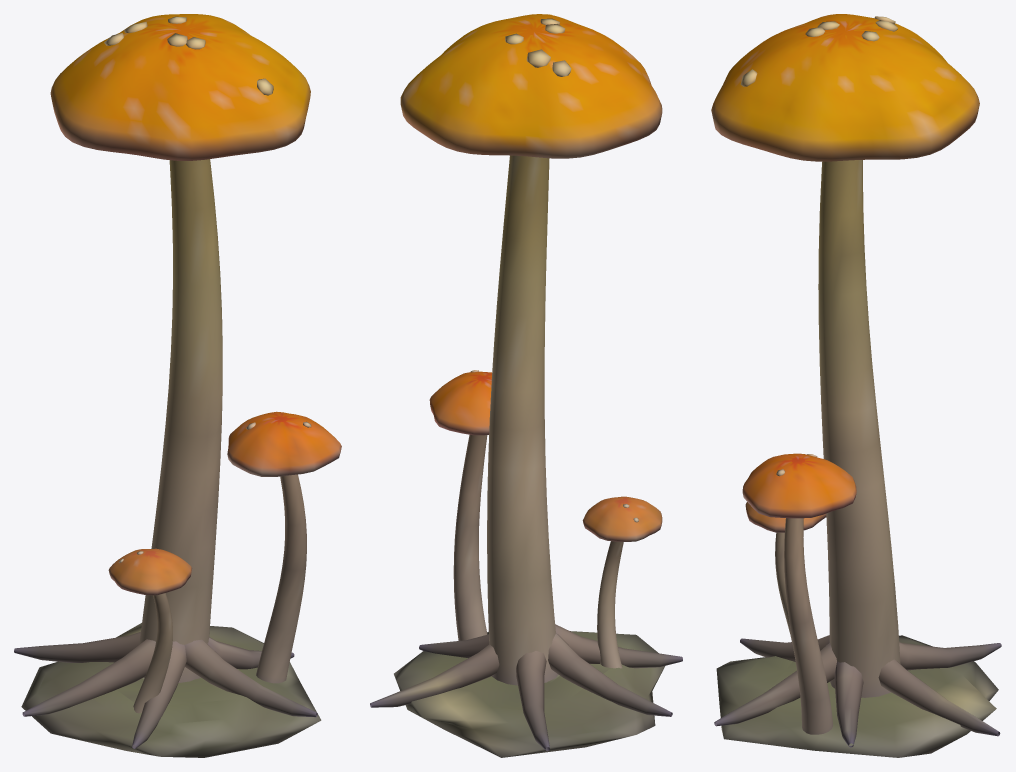
The model's file is mantar_lambader.glb.
3 renders of one model, left to right at view 1: azimuth 30°, elevation 25°; view 2: azimuth 150°, elevation 25°; view 3: azimuth 270°, elevation 25°, orthographic. The views are drawn at different scales.
Parts seen in each view (by area): view 1: mantar_lambader_LOD0; view 2: mantar_lambader_LOD0; view 3: mantar_lambader_LOD0.
Part boxes in pixels (left/top/right/bottom): mantar_lambader_LOD0: left=14, top=14, right=341, bottom=757; mantar_lambader_LOD0: left=370, top=14, right=682, bottom=757; mantar_lambader_LOD0: left=711, top=14, right=1001, bottom=757.
Size of what is drawn, in the model's own units: 0.8022 by 1.93 by 0.7319.
